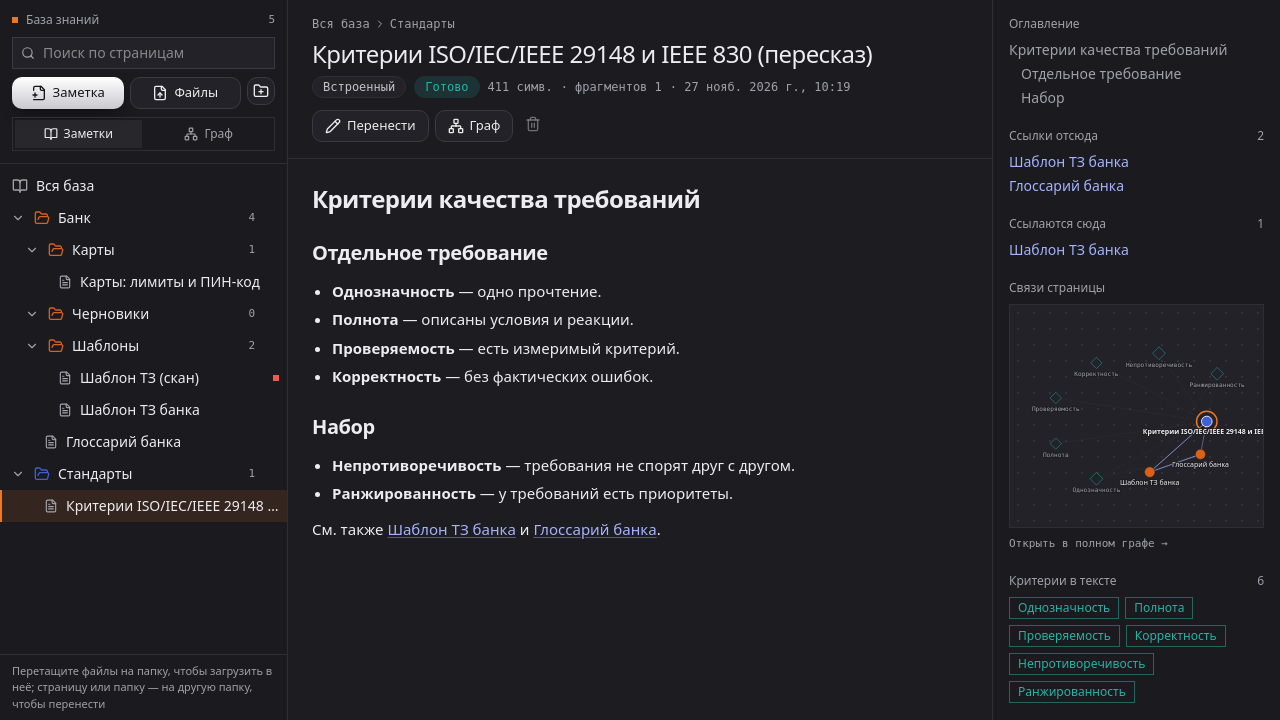
Test: Knowledge wiki › built-in material can only be moved
Click the button "Перенести".
click(370, 126)  # box [312, 110, 429, 142]
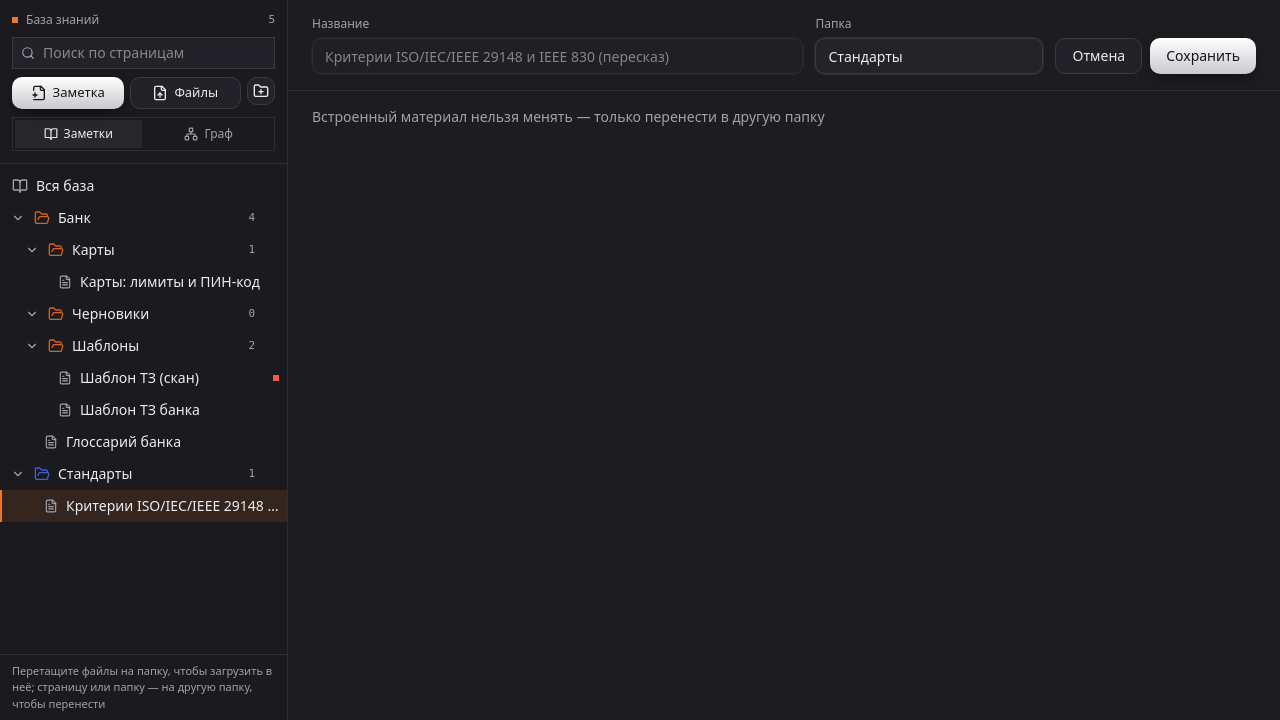
Expected: the field labelled "Название" is disabled, [312, 38, 804, 74]
Expected: the text labelled "текст" is gone
